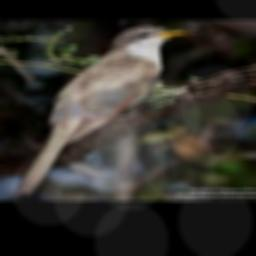Cuckoo: (15, 27, 196, 196)
